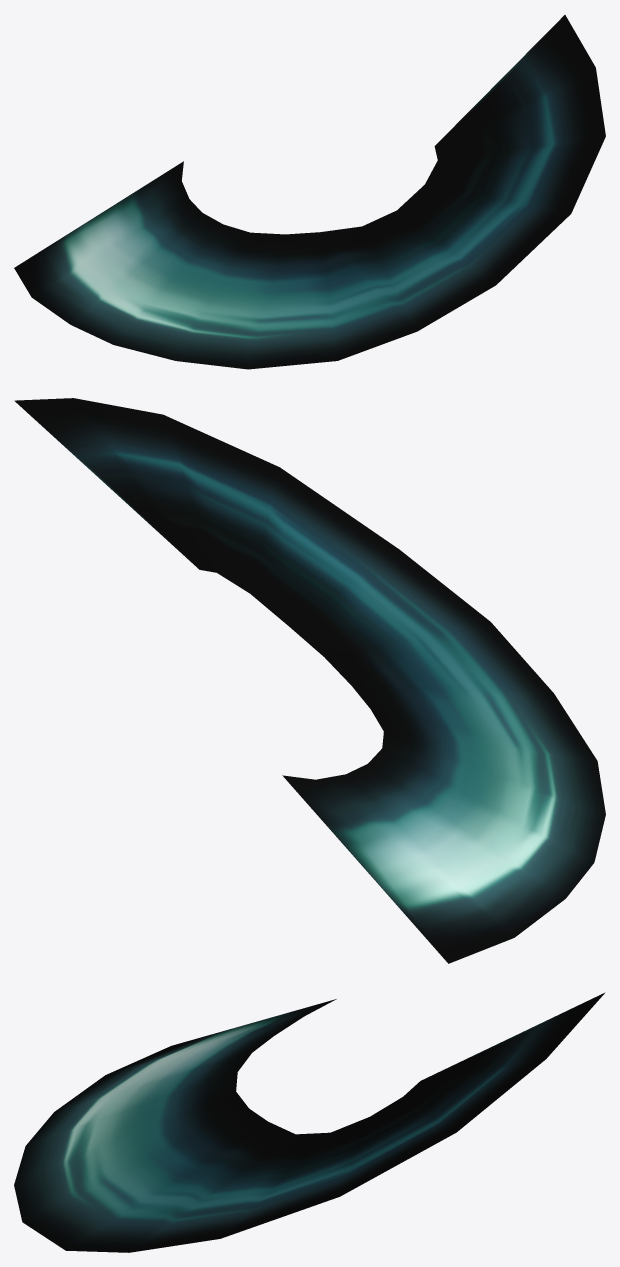
Rendered from eff_knight_attack02.FBX.
The picture shows the model from 3 angles, top to bottom: view 1: azimuth 30°, elevation 25°; view 2: azimuth 150°, elevation 25°; view 3: azimuth 330°, elevation 25°; orthographic projection. The views are drawn at different scales.
Parts seen in each view (by area): view 1: eff_knight_attack01; view 2: eff_knight_attack01; view 3: eff_knight_attack01.
Part boxes in pixels (x1,y1,x2,y2): eff_knight_attack01: (14,15,605,369); eff_knight_attack01: (14,398,605,963); eff_knight_attack01: (14,992,605,1252).
Size of the model in its own units: 41.56 by 20.25 by 35.39.
Materials: 1 (1 with a texture image).
